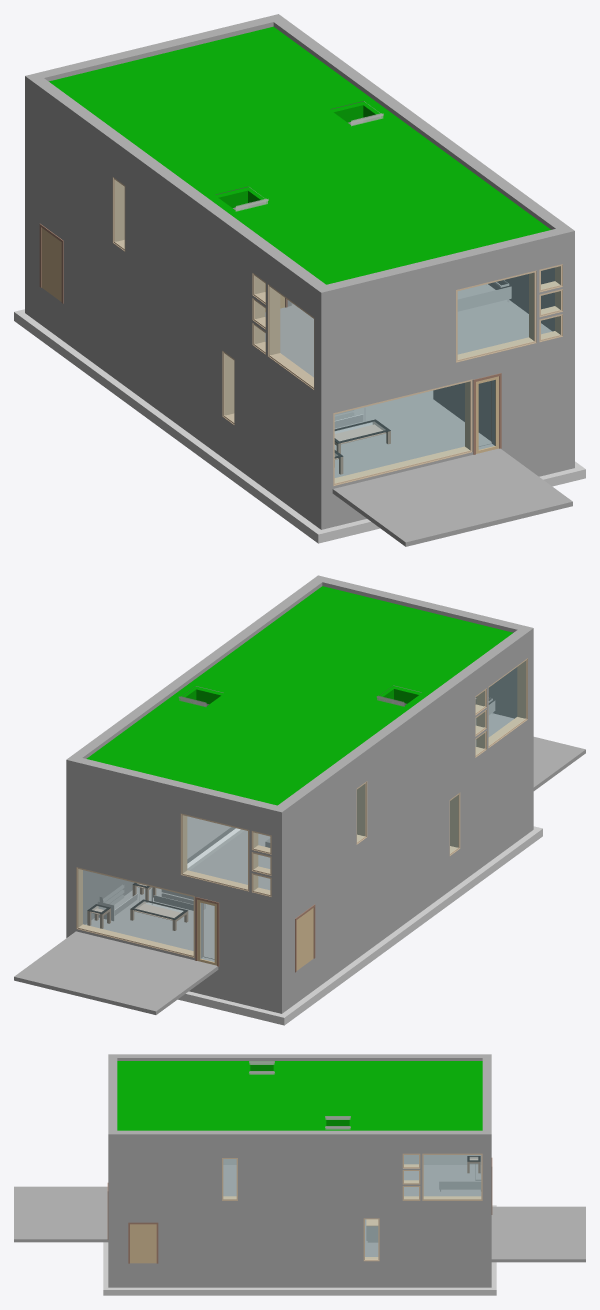
File: Duplex_A_20110907_optimized.glb
3 views of the same model, one above another, from view 1: azimuth 30°, elevation 25°; view 2: azimuth 150°, elevation 25°; view 3: azimuth 270°, elevation 25° (orthographic). The views are drawn at different scales.
Parts seen in each view (by area): view 1: product-ddaca082-9edd-4829-a689-a1a58a1761d2-body, product-9808fd7f-dc48-478e-9217-628e833d7af9-body, product-9808fd7f-dc48-478e-9217-628e833d5659-body, product-9808fd7f-dc48-478e-9217-628e833d5611-body, product-4c8d2570-3244-4e75-8237-a4372a40e878-body, product-9808fd7f-dc48-478e-9217-628e833d7d42-body, product-9808fd7f-dc48-478e-9217-628e833d4385-body, product-2da40d62-4698-436c-a2c3-95c49bb70d41-body, product-982f59b0-f2e1-485f-8ce1-c9f6117b7ef5-body, product-2da40d62-4698-436c-a2c3-95c49bb70ca4-body, product-2da40d62-4698-436c-a2c3-95c49bb70cfa-body, product-2e3c415a-d885-4964-a589-bb0941bdd177-body (+17 smaller); view 2: product-ddaca082-9edd-4829-a689-a1a58a1761d2-body, product-9808fd7f-dc48-478e-9217-628e833d7af9-body, product-9808fd7f-dc48-478e-9217-628e833d5659-body, product-9808fd7f-dc48-478e-9217-628e833d568d-body, product-4c8d2570-3244-4e75-8237-a4372a40e82b-body, product-9808fd7f-dc48-478e-9217-628e833d7df1-body, product-9808fd7f-dc48-478e-9217-628e833d4385-body, product-2da40d62-4698-436c-a2c3-95c49bb70d41-body, product-2da40d62-4698-436c-a2c3-95c49bb70c3c-body, product-2e3c415a-d885-4964-a589-bb0941bdd177-body, product-2da40d62-4698-436c-a2c3-95c49bb70cfa-body, product-982f59b0-f2e1-485f-8ce1-c9f6117b7a99-body (+17 smaller); view 3: product-ddaca082-9edd-4829-a689-a1a58a1761d2-body, product-9808fd7f-dc48-478e-9217-628e833d7d12-body, product-9808fd7f-dc48-478e-9217-628e833d56c9-body, product-9808fd7f-dc48-478e-9217-628e833d4257-body, product-2da40d62-4698-436c-a2c3-95c49bb70cfa-body, product-4c8d2570-3244-4e75-8237-a4372a40e82b-body, product-4c8d2570-3244-4e75-8237-a4372a40e878-body, product-2e3c415a-d885-4964-a589-bb0941bdd167-body, product-2da40d62-4698-436c-a2c3-95c49bb70d41-body, product-982f59b0-f2e1-485f-8ce1-c9f6117b7361-body, product-6b61ce71-1a7a-473c-8f87-4262e0bdb41a-body, product-2da40d62-4698-436c-a2c3-95c49bb70c3c-body (+6 smaller).
Boxes of the visible parts, x1=… form: product-ddaca082-9edd-4829-a689-a1a58a1761d2-body: x1=49, y1=26, x2=550, y2=284; product-9808fd7f-dc48-478e-9217-628e833d7af9-body: x1=32, y1=187, x2=314, y2=486; product-9808fd7f-dc48-478e-9217-628e833d5659-body: x1=25, y1=94, x2=321, y2=398; product-9808fd7f-dc48-478e-9217-628e833d5611-body: x1=321, y1=249, x2=574, y2=398; product-4c8d2570-3244-4e75-8237-a4372a40e878-body: x1=332, y1=448, x2=572, y2=546; product-9808fd7f-dc48-478e-9217-628e833d7d42-body: x1=314, y1=340, x2=562, y2=491; product-9808fd7f-dc48-478e-9217-628e833d4385-body: x1=32, y1=281, x2=314, y2=524; product-2da40d62-4698-436c-a2c3-95c49bb70d41-body: x1=32, y1=78, x2=325, y2=305; product-982f59b0-f2e1-485f-8ce1-c9f6117b7ef5-body: x1=334, y1=390, x2=491, y2=477; product-2da40d62-4698-436c-a2c3-95c49bb70ca4-body: x1=314, y1=229, x2=562, y2=310; product-2da40d62-4698-436c-a2c3-95c49bb70cfa-body: x1=273, y1=19, x2=574, y2=251; product-2e3c415a-d885-4964-a589-bb0941bdd177-body: x1=14, y1=309, x2=309, y2=532; product-ddaca082-9edd-4829-a689-a1a58a1761d2-body: x1=86, y1=586, x2=513, y2=805; product-9808fd7f-dc48-478e-9217-628e833d7af9-body: x1=287, y1=722, x2=527, y2=977; product-9808fd7f-dc48-478e-9217-628e833d5659-body: x1=282, y1=644, x2=533, y2=901; product-9808fd7f-dc48-478e-9217-628e833d568d-body: x1=66, y1=775, x2=281, y2=902; product-4c8d2570-3244-4e75-8237-a4372a40e82b-body: x1=14, y1=931, x2=218, y2=1014; product-9808fd7f-dc48-478e-9217-628e833d7df1-body: x1=66, y1=850, x2=287, y2=981; product-9808fd7f-dc48-478e-9217-628e833d4385-body: x1=287, y1=802, x2=527, y2=1009; product-2da40d62-4698-436c-a2c3-95c49bb70d41-body: x1=278, y1=630, x2=527, y2=823; product-2da40d62-4698-436c-a2c3-95c49bb70c3c-body: x1=66, y1=755, x2=287, y2=827; product-2e3c415a-d885-4964-a589-bb0941bdd177-body: x1=262, y1=836, x2=530, y2=1025; product-2da40d62-4698-436c-a2c3-95c49bb70cfa-body: x1=72, y1=575, x2=327, y2=758; product-982f59b0-f2e1-485f-8ce1-c9f6117b7a99-body: x1=85, y1=887, x2=214, y2=959; product-ddaca082-9edd-4829-a689-a1a58a1761d2-body: x1=117, y1=1061, x2=482, y2=1130; product-9808fd7f-dc48-478e-9217-628e833d7d12-body: x1=108, y1=1202, x2=482, y2=1263; product-9808fd7f-dc48-478e-9217-628e833d56c9-body: x1=108, y1=1146, x2=491, y2=1202; product-9808fd7f-dc48-478e-9217-628e833d4257-body: x1=108, y1=1263, x2=482, y2=1287; product-2da40d62-4698-436c-a2c3-95c49bb70cfa-body: x1=108, y1=1130, x2=482, y2=1146; product-4c8d2570-3244-4e75-8237-a4372a40e82b-body: x1=491, y1=1206, x2=585, y2=1262; product-4c8d2570-3244-4e75-8237-a4372a40e878-body: x1=14, y1=1186, x2=108, y2=1242; product-2e3c415a-d885-4964-a589-bb0941bdd167-body: x1=103, y1=1281, x2=496, y2=1295; product-2da40d62-4698-436c-a2c3-95c49bb70d41-body: x1=117, y1=1054, x2=482, y2=1060; product-982f59b0-f2e1-485f-8ce1-c9f6117b7361-body: x1=404, y1=1165, x2=481, y2=1196; product-6b61ce71-1a7a-473c-8f87-4262e0bdb41a-body: x1=128, y1=1222, x2=158, y2=1263; product-2da40d62-4698-436c-a2c3-95c49bb70c3c-body: x1=482, y1=1054, x2=491, y2=1146.
Bounding box in the file's own units: 9.28 × 8.18 × 26.57.
